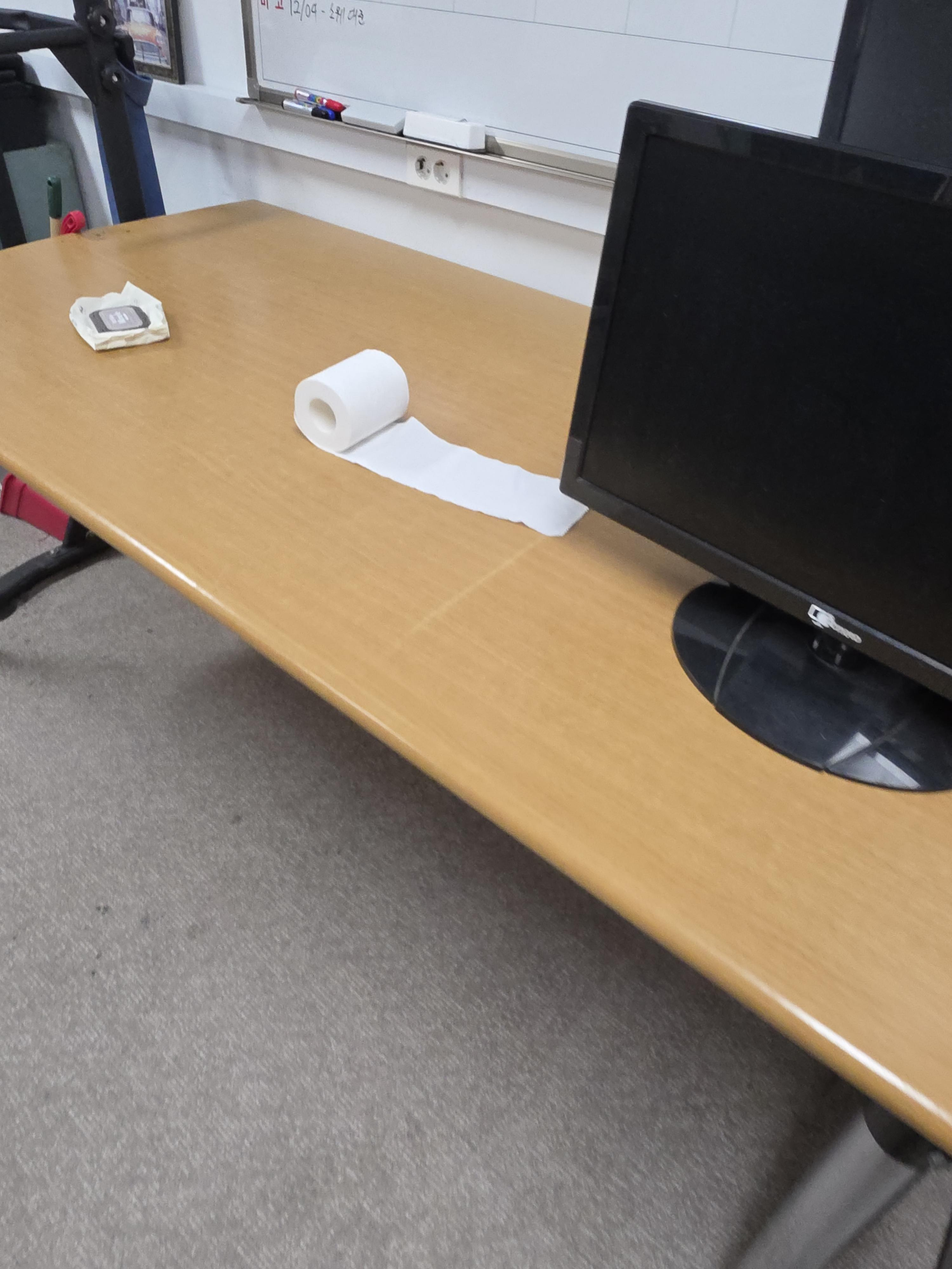tissue: (294, 348, 588, 537)
